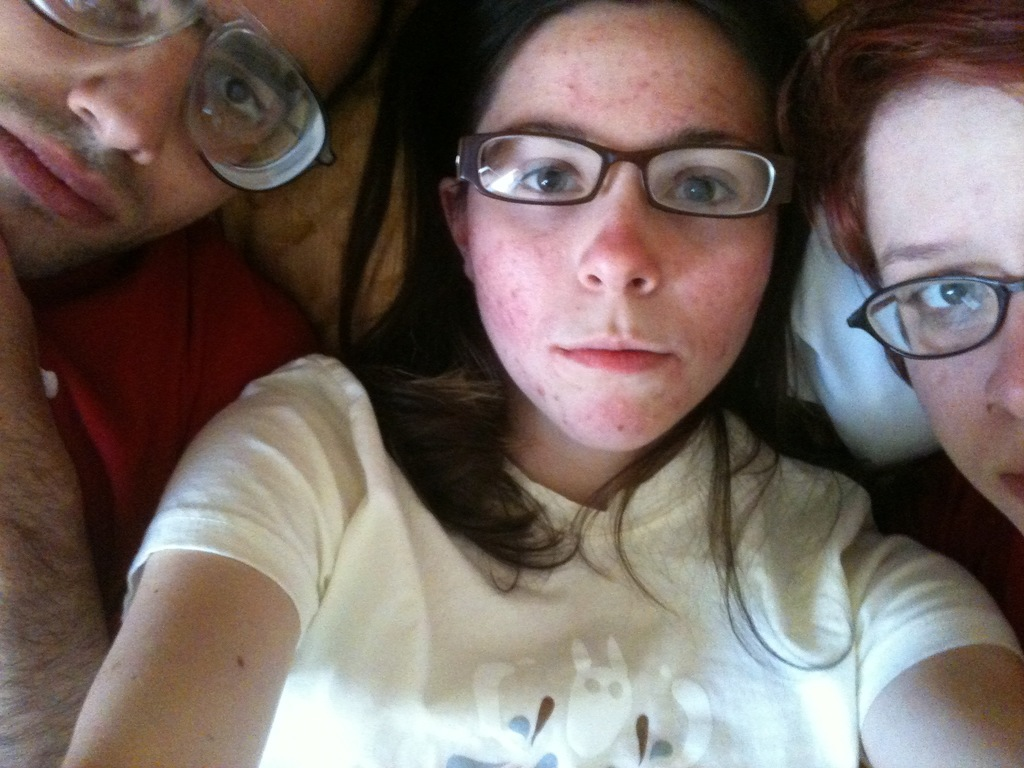Human-face: (461, 1, 779, 456), (1, 0, 374, 283), (858, 71, 1023, 527)
